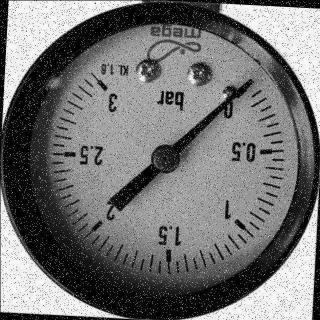gauge: (0, 0, 320, 320), (223, 80, 251, 116), (150, 143, 180, 175), (90, 69, 116, 103), (241, 75, 257, 91)
